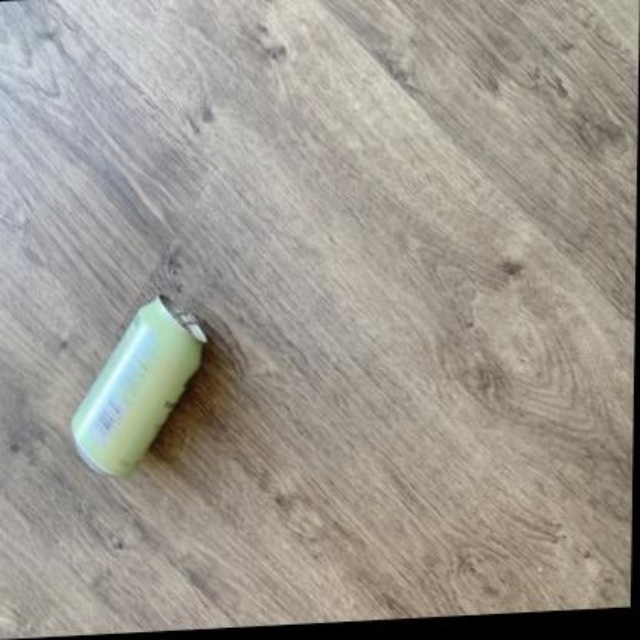trash: (72, 297, 205, 474)
